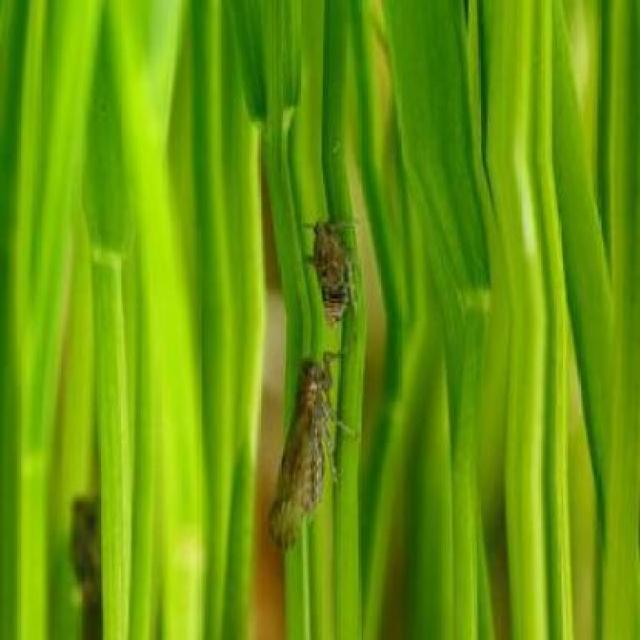brown-planthopper: (271, 348, 346, 544), (305, 210, 353, 328)
